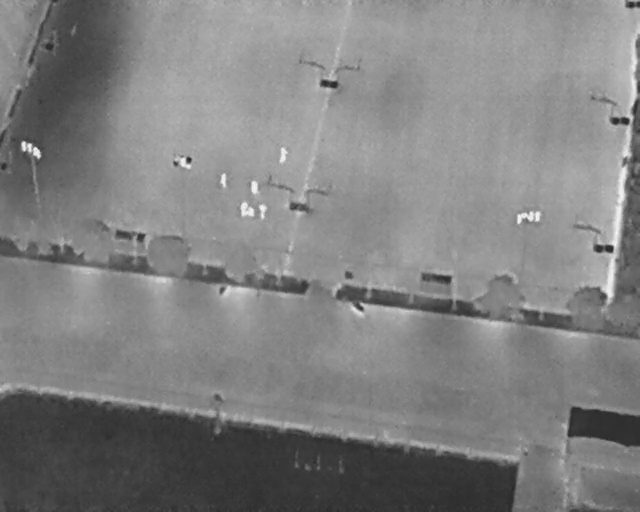Person: (279, 146, 289, 164), (239, 201, 248, 218), (259, 202, 267, 220), (251, 180, 259, 195), (220, 172, 227, 189), (246, 206, 255, 218)
